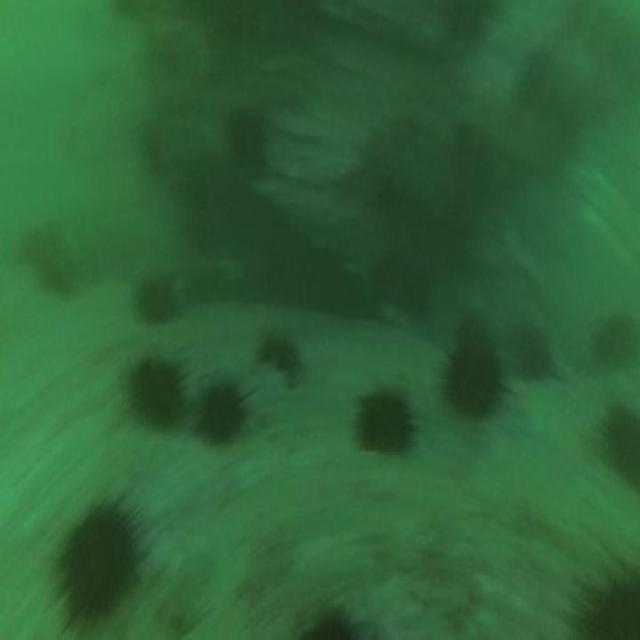echinus: (63, 514, 134, 616), (447, 344, 498, 419), (132, 357, 182, 424), (356, 394, 408, 456), (602, 404, 640, 488), (226, 108, 268, 176), (375, 259, 420, 316), (199, 384, 243, 436), (516, 324, 548, 386), (138, 273, 170, 324)
